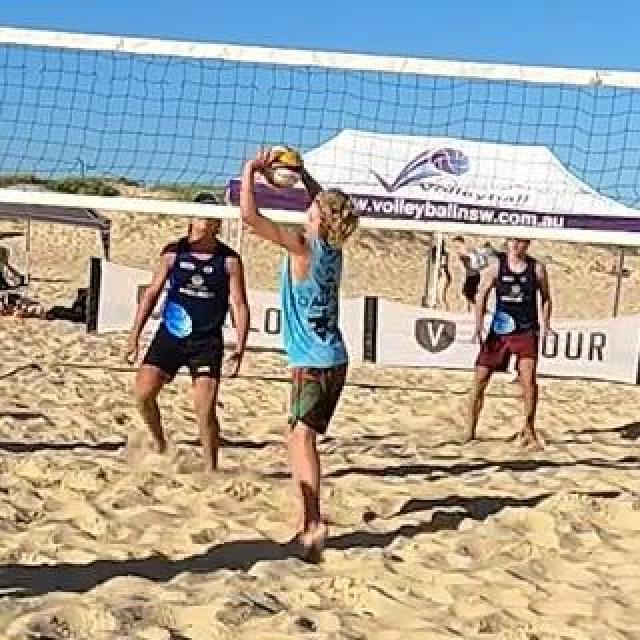volleyball: (264, 147, 302, 189)
